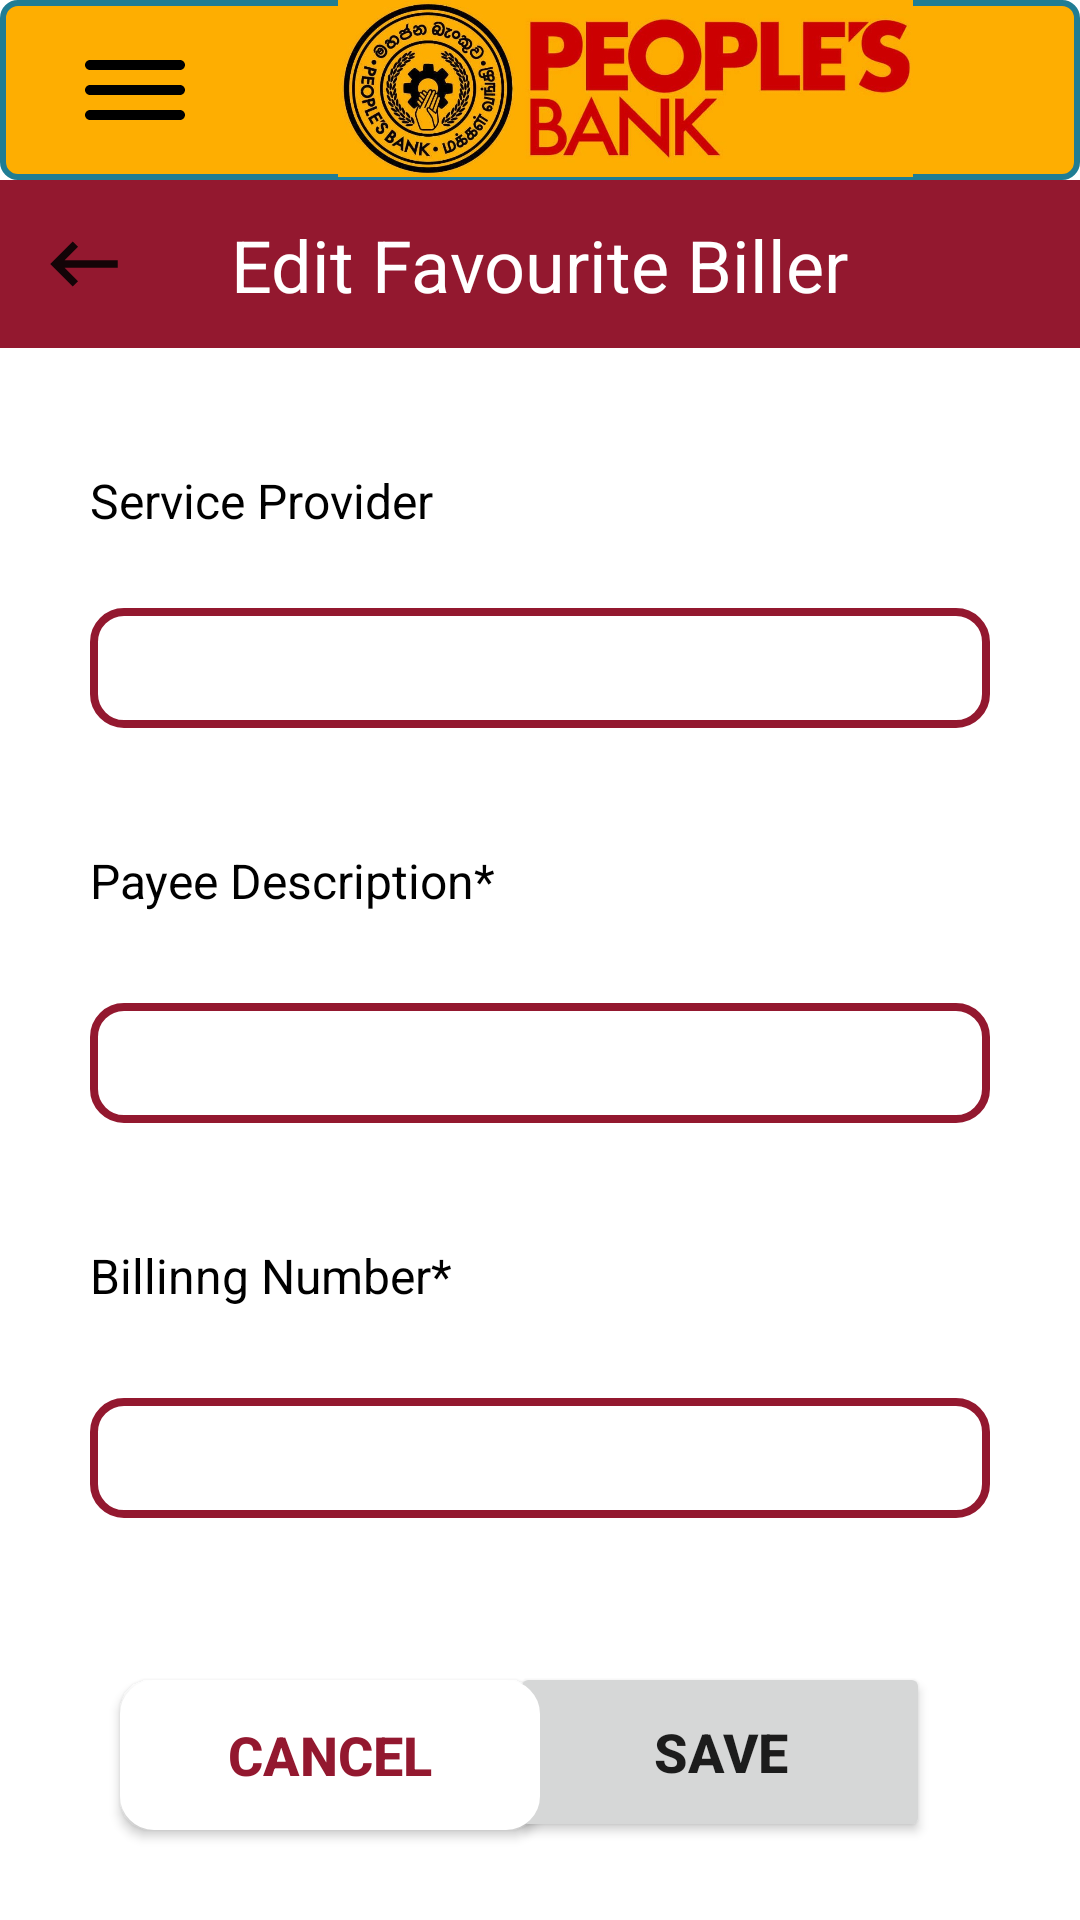

Icons on this 1080px x 1920px Android screen, each with its box as bbox=(x1, y1, x2, y2):
dehaze: bbox=(85, 60, 185, 120)
